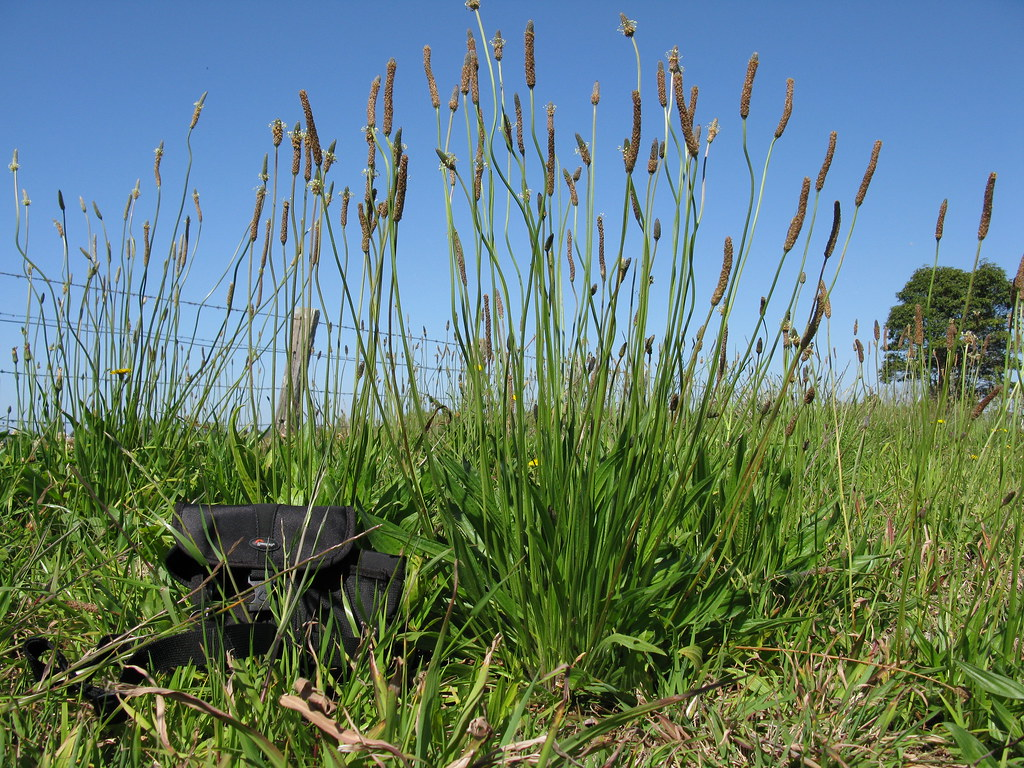buckhorn plantain: (397, 1, 824, 692), (32, 78, 390, 488), (829, 158, 1024, 713)
